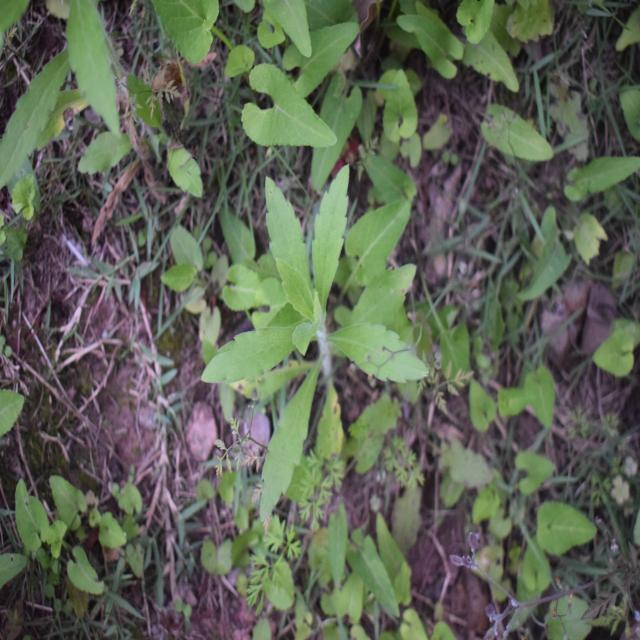horseweed: (231, 168, 411, 476)
